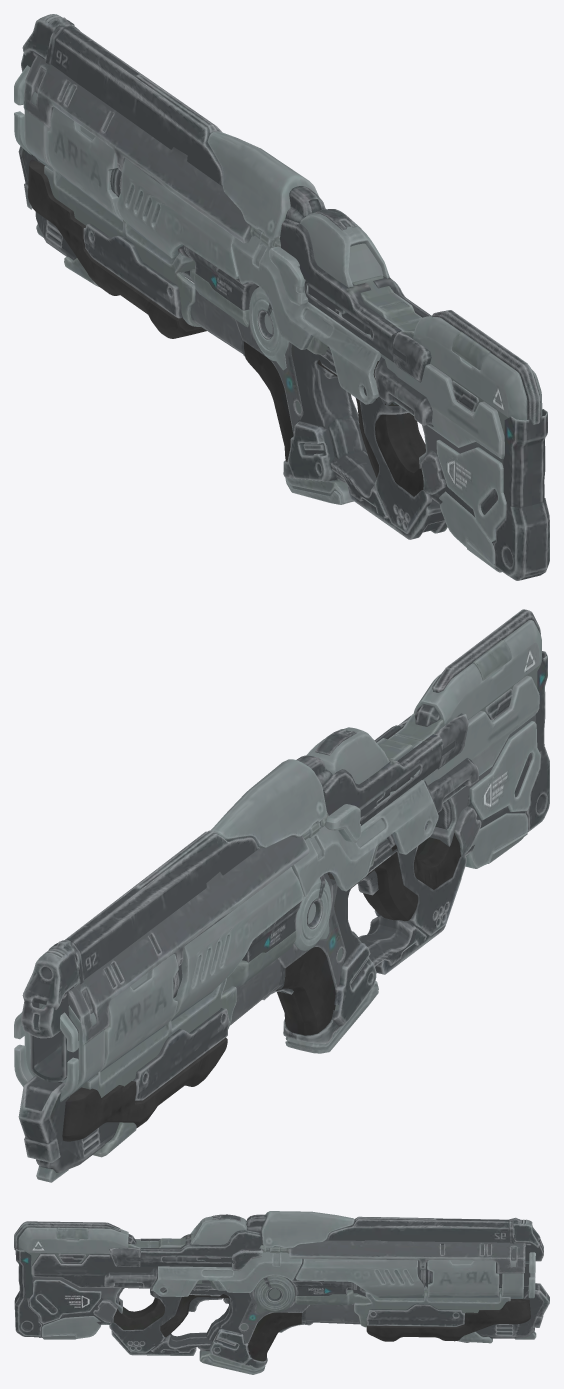
File: gun-vigil.glb
3 renders of one model, top to bottom at view 1: azimuth 30°, elevation 25°; view 2: azimuth 150°, elevation 25°; view 3: azimuth 270°, elevation 25°, orthographic. The views are drawn at different scales.
Visible parts, largest first — view 1: defaultMaterial; view 2: defaultMaterial; view 3: defaultMaterial.
Part boxes in pixels (<box>): defaultMaterial: <box>14,14,549,580</box>; defaultMaterial: <box>14,609,549,1182</box>; defaultMaterial: <box>14,1211,549,1374</box>.
Bounding box in the file's own units: 0.082 × 0.326 × 1.
Materials: 1 (1 with a texture image).
